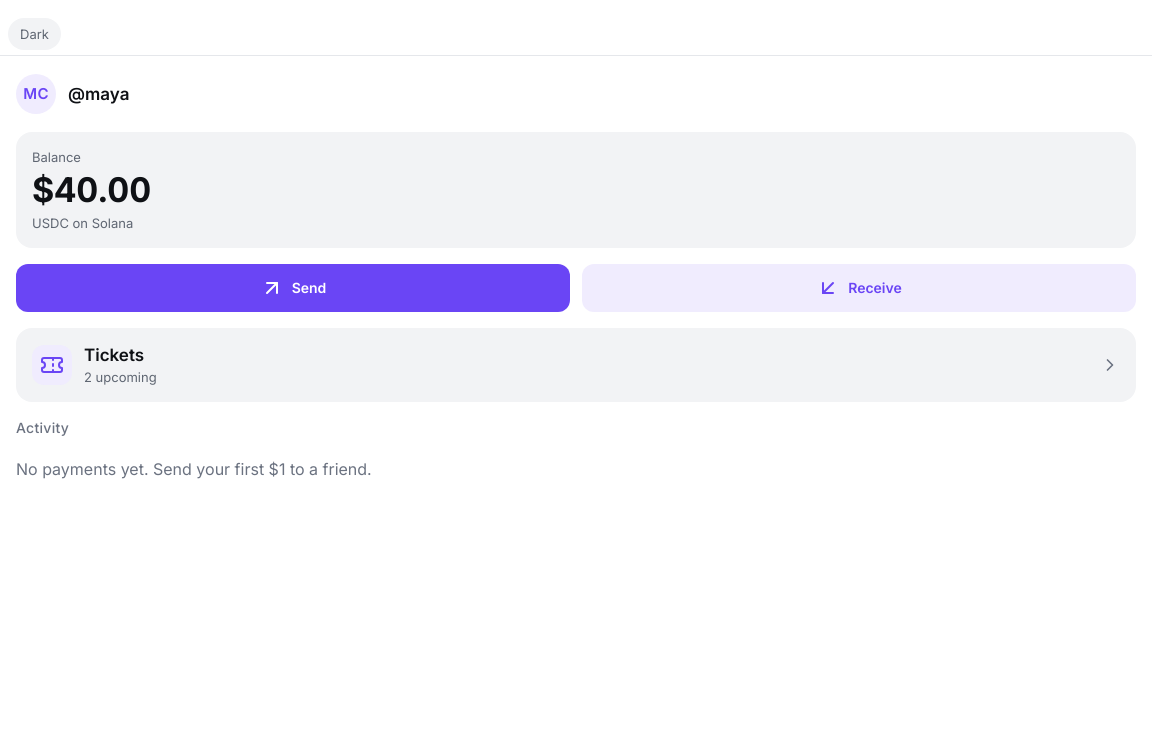
Test: S11/S12 events › sold-out event: MainButton hidden, banner points to resale
Click the button "Tickets 2 upcoming": [52, 365] box [16,328,1136,402]
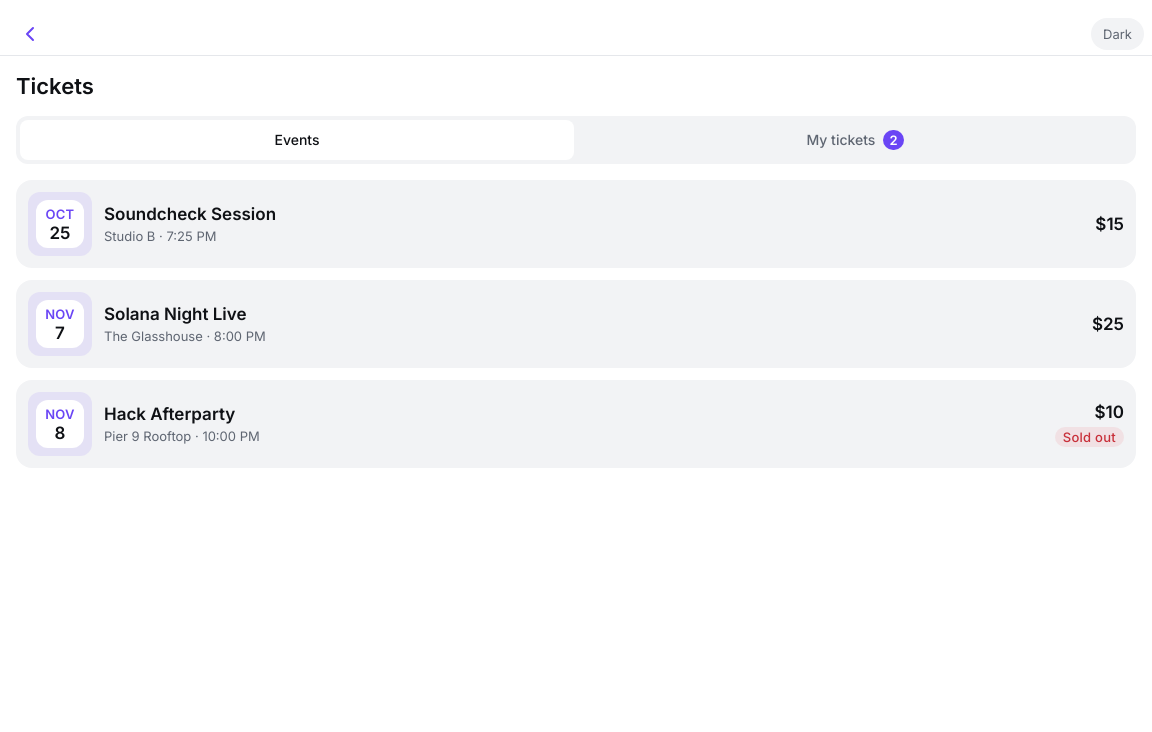
Click the button "NOV 8 Hack Afterparty Pier 9 Rooftop · 10:00 PM $10 Sold out": [60, 424] box [16,380,1136,468]
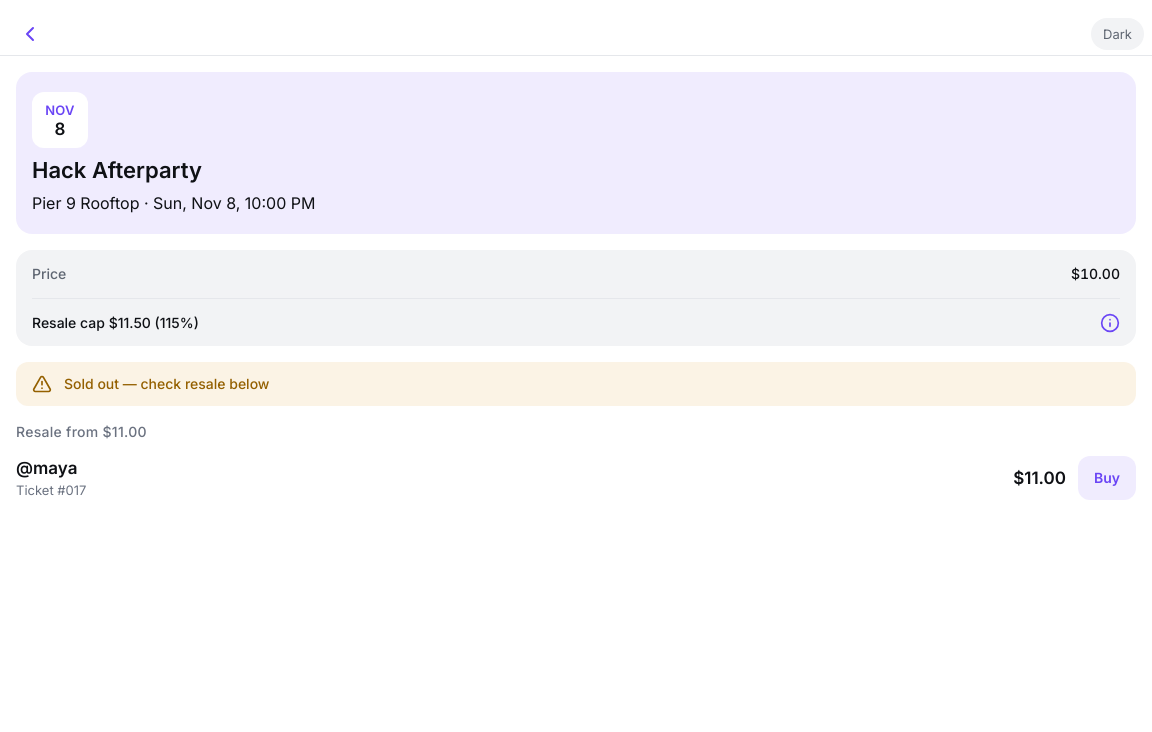
Check: the text "Sold out — check resale below" is shown, box [64,375,270,392]
Check: the heading "Resale from $11.00" is shown, box [16,423,147,440]
